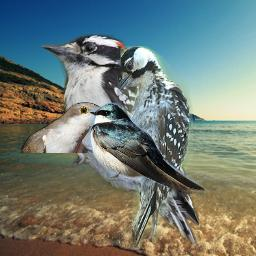Cuckoo: (21, 102, 117, 153)
Swallow: (88, 102, 206, 194)
Woodpecker: (41, 34, 199, 250), (117, 46, 193, 248)
